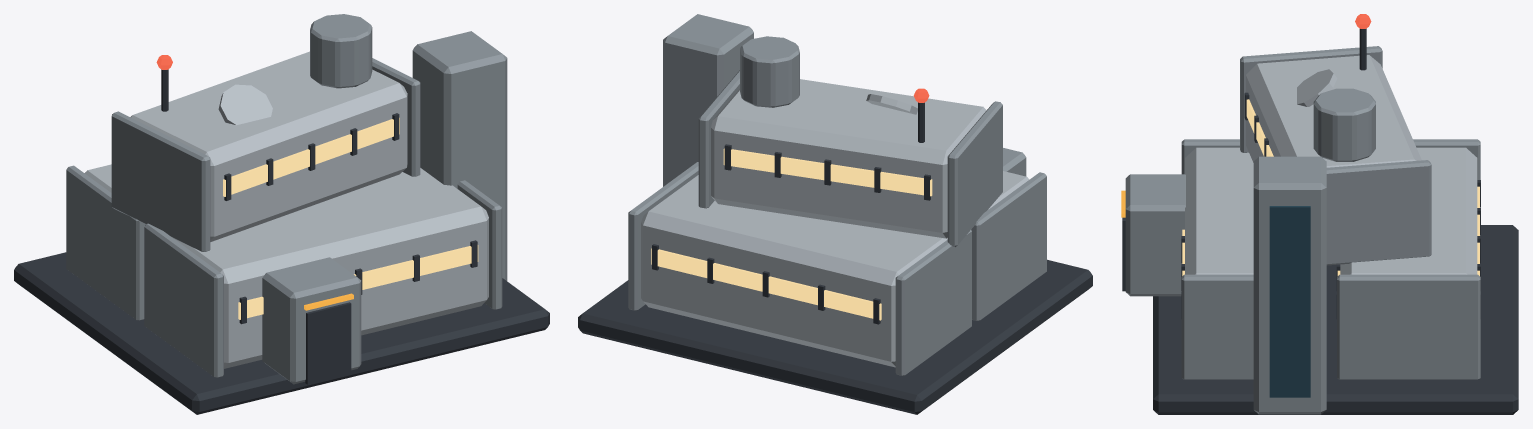
File: exo-habitat.glb
The picture shows the model from 3 angles, left to right: view 1: azimuth 30°, elevation 25°; view 2: azimuth 150°, elevation 25°; view 3: azimuth 270°, elevation 25°; orthographic projection. The views are drawn at different scales.
Parts seen in each view (by area): view 1: body; view 2: body; view 3: body.
Boxes of the visible parts, left/top/right/bottom form: body: left=14, top=14, right=549, bottom=414; body: left=578, top=14, right=1092, bottom=414; body: left=1121, top=14, right=1518, bottom=414.
Size of the model in its own units: 9.27 by 6.43 by 8.69.
